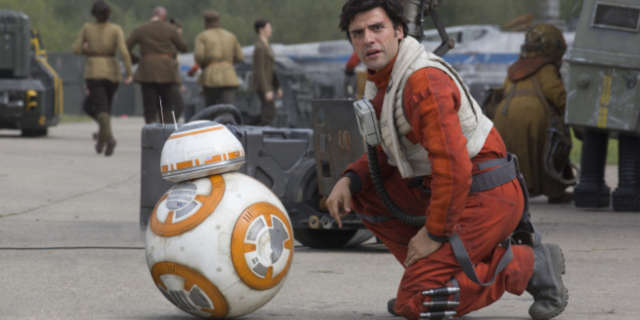bb8: (145, 120, 295, 319)
